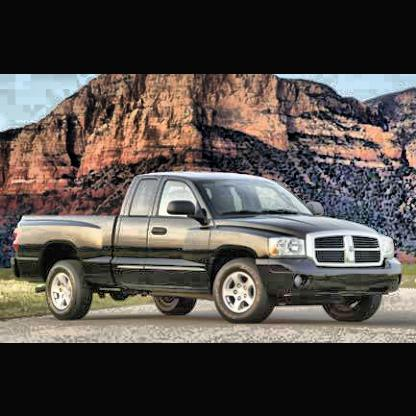Dodge Dakota Club Cab 2007: (12, 170, 406, 327)
